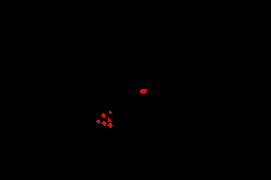Target: (140, 89, 147, 93), (108, 123, 113, 128), (102, 121, 106, 126), (101, 113, 105, 117), (108, 118, 111, 122), (96, 120, 100, 123), (109, 111, 112, 114)
